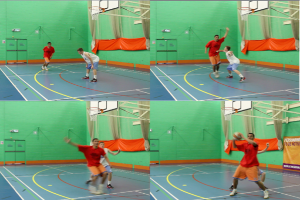b_ball: (232, 132, 244, 142)
player: (61, 134, 118, 190), (229, 129, 270, 200), (72, 46, 103, 86), (201, 31, 223, 79), (222, 46, 246, 87), (39, 41, 62, 75)
